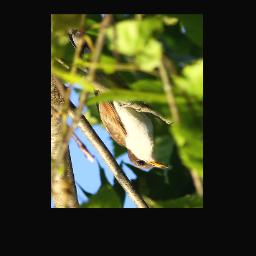Cuckoo: (64, 25, 172, 173)
